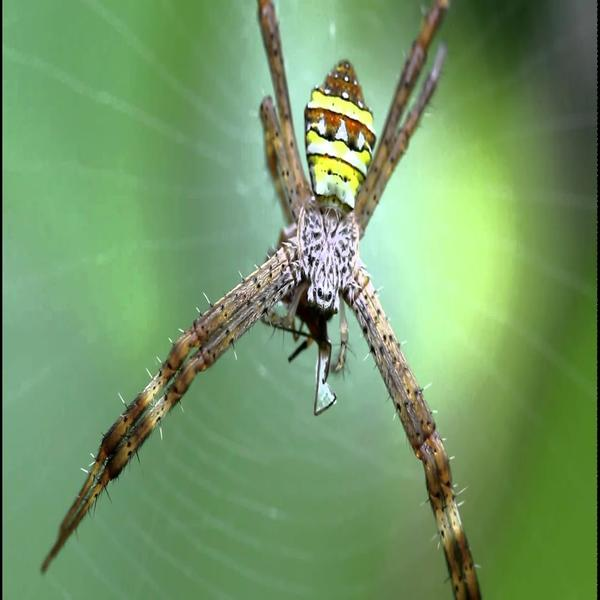St Andrew's Cross Spider: (46, 10, 485, 600)
